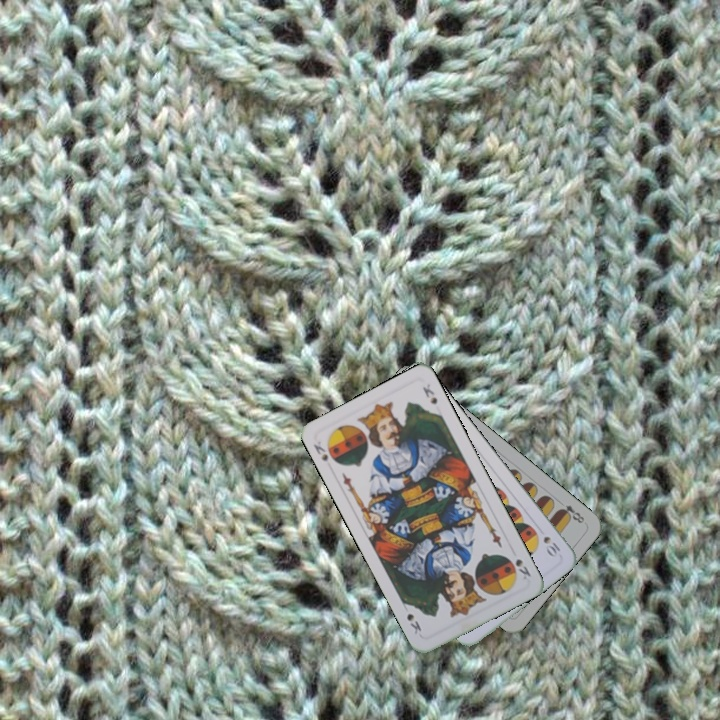E8: (554, 496, 587, 526)
S10: (539, 532, 563, 558)
SK: (309, 437, 340, 466), (511, 555, 534, 582)
